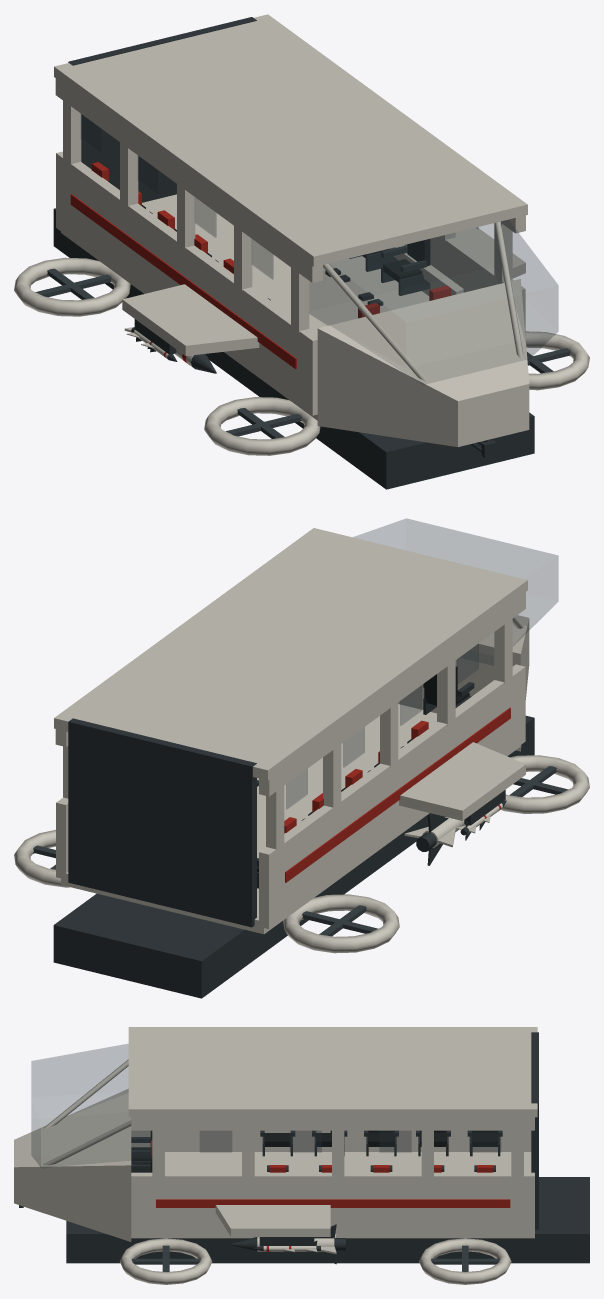
The picture shows the model from 3 angles, top to bottom: view 1: azimuth 30°, elevation 25°; view 2: azimuth 150°, elevation 25°; view 3: azimuth 270°, elevation 25°; orthographic projection. The views are drawn at different scales.
Visible parts, largest first — view 1: hover-transport-painted, transport-roof-painted, hover-transport-glazing, crew-seating-batch-painted, transport-ramp-painted, rotor-lift--1-2.9-fleet-machine, rotor-lift--1--3.1-fleet-machine; view 2: transport-roof-painted, hover-transport-painted, transport-ramp-painted, hover-transport-glazing, crew-seating-batch-painted, store-hover-large--1-painted, rotor-lift--1--3.1-fleet-machine, rotor-lift--1-2.9-fleet-machine; view 3: hover-transport-painted, transport-roof-painted, hover-transport-glazing, crew-seating-batch-painted, transport-ramp-painted, store-hover-large-1-painted, rotor-lift-1-2.9-fleet-machine, rotor-lift-1--3.1-fleet-machine.
Boxes of the visible parts, bbox=[...] form: hover-transport-painted: bbox=[14, 151, 589, 489]; transport-roof-painted: bbox=[54, 14, 527, 332]; hover-transport-glazing: bbox=[81, 114, 558, 385]; crew-seating-batch-painted: bbox=[91, 162, 451, 318]; transport-ramp-painted: bbox=[68, 17, 256, 202]; rotor-lift--1-2.9-fleet-machine: bbox=[226, 408, 301, 438]; rotor-lift--1--3.1-fleet-machine: bbox=[35, 268, 111, 299]; transport-roof-painted: bbox=[54, 528, 527, 850]; hover-transport-painted: bbox=[14, 615, 589, 998]; transport-ramp-painted: bbox=[68, 718, 256, 927]; hover-transport-glazing: bbox=[286, 518, 558, 808]; crew-seating-batch-painted: bbox=[257, 666, 474, 888]; store-hover-large--1-painted: bbox=[404, 815, 465, 865]; rotor-lift--1--3.1-fleet-machine: bbox=[302, 905, 377, 936]; rotor-lift--1-2.9-fleet-machine: bbox=[509, 766, 568, 796]; hover-transport-painted: bbox=[14, 1059, 589, 1284]; transport-roof-painted: bbox=[128, 1027, 537, 1177]; hover-transport-glazing: bbox=[31, 1044, 500, 1168]; crew-seating-batch-painted: bbox=[131, 1130, 502, 1172]; transport-ramp-painted: bbox=[531, 1032, 538, 1229]; store-hover-large-1-painted: bbox=[230, 1224, 345, 1264]; rotor-lift-1-2.9-fleet-machine: bbox=[132, 1245, 200, 1271]; rotor-lift-1--3.1-fleet-machine: bbox=[431, 1245, 499, 1271].
Bounding box in the file's own units: 36.97 × 20.23 × 63.16.
